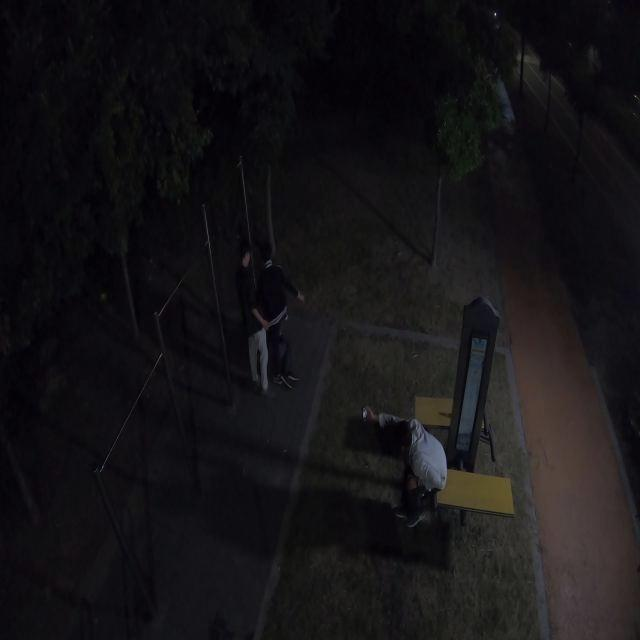fight: (233, 234, 308, 392)
non-fight: (359, 404, 447, 538)
